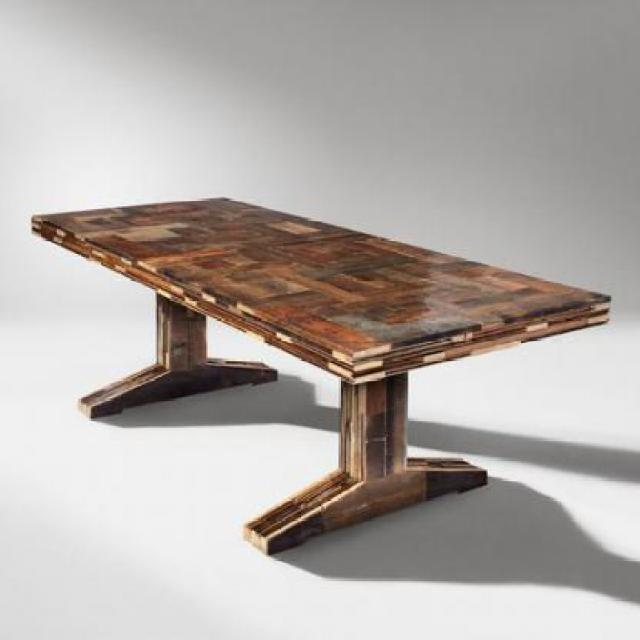table: (29, 195, 613, 553)
